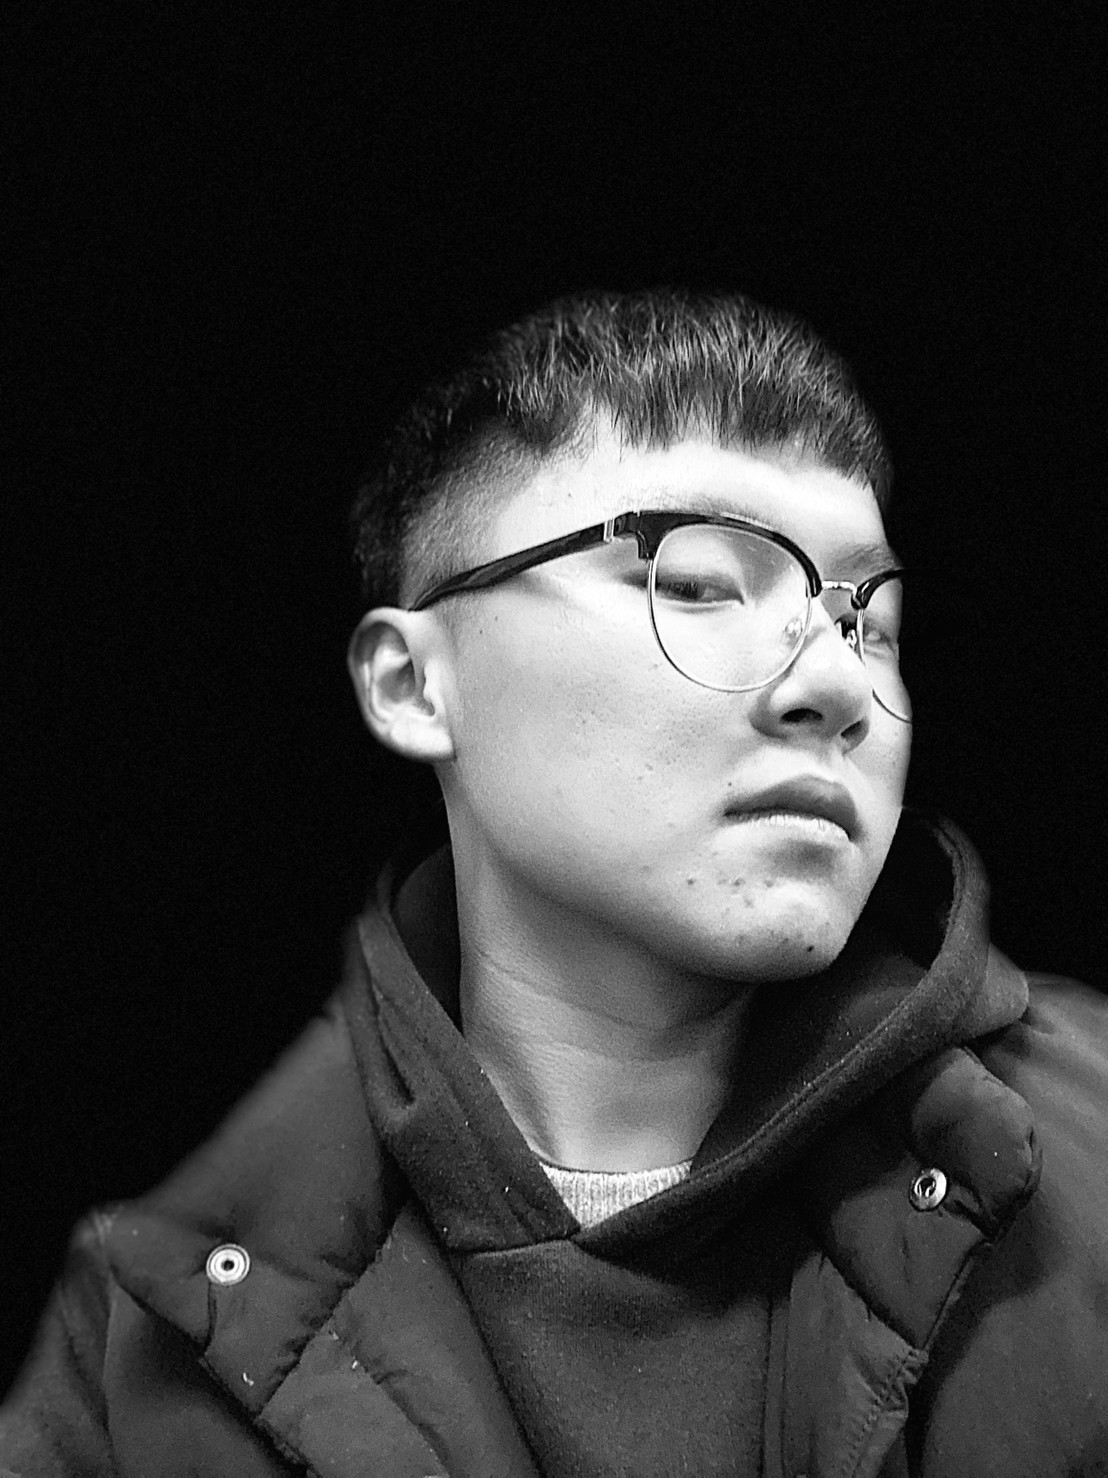people: (295, 264, 969, 1478)
